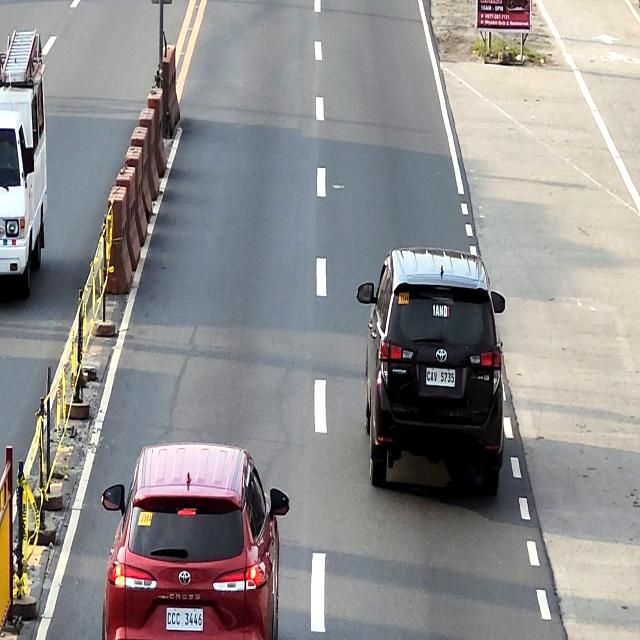Car: (356, 247, 506, 506), (102, 443, 290, 640), (0, 55, 47, 298)
License-Plate: (166, 608, 203, 631), (426, 368, 455, 388)
